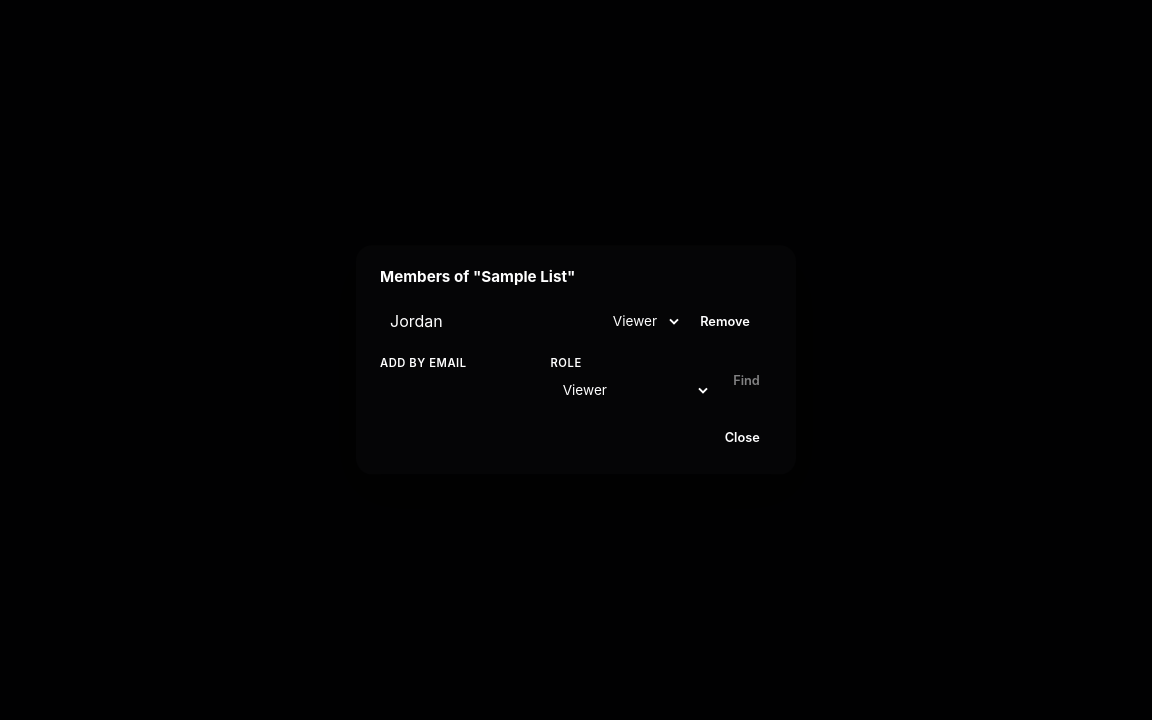
Test case: ManageMembersDialog › revokes a member and removes them from the visible list
Click the button "Remove": x=725, y=322 left=688, top=306, right=762, bottom=337
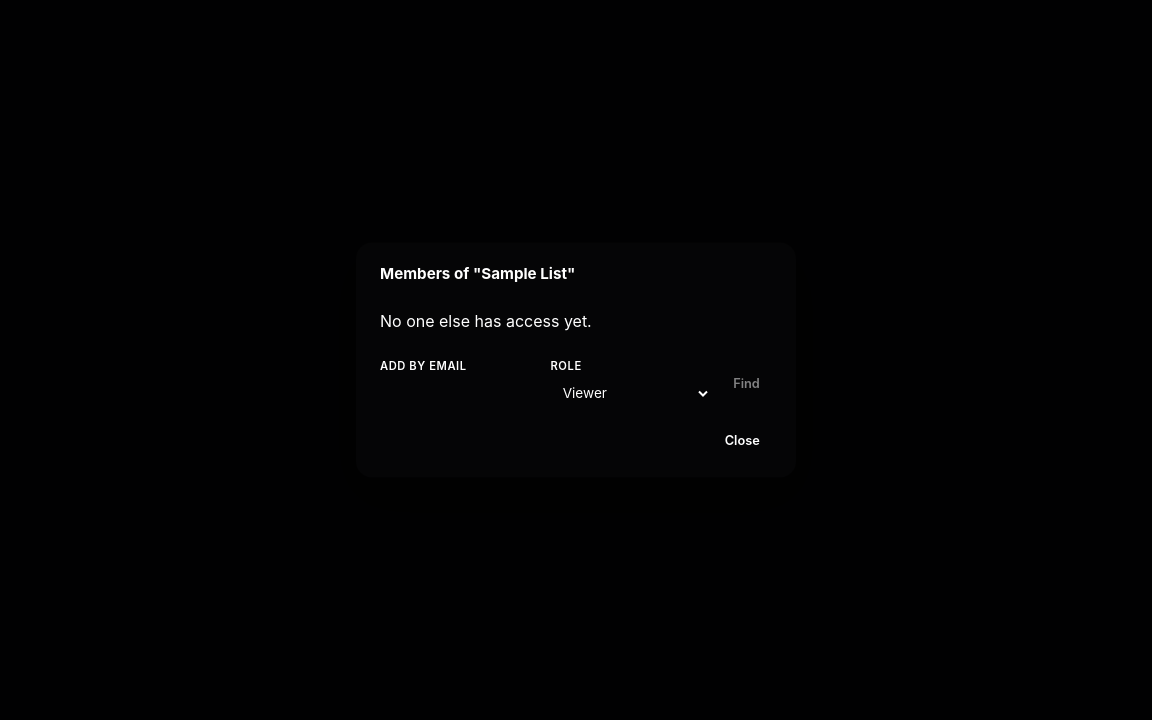
Expected: the text "No one else has access yet." is shown, left=380, top=312, right=592, bottom=332
